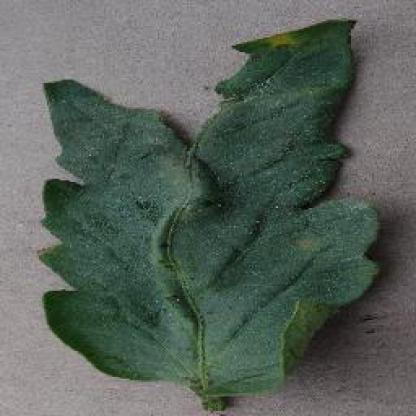bad leaf: (45, 7, 377, 414)
